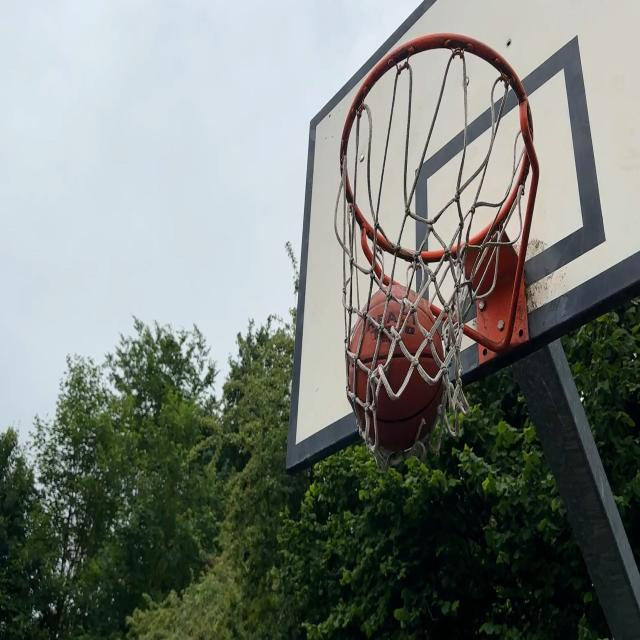Goal: (348, 284, 443, 449)
